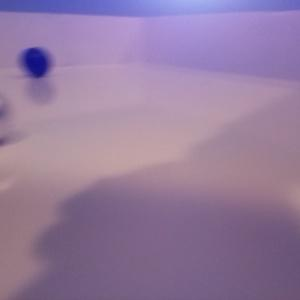alive_ball: (1, 92, 12, 145)
dead_ball: (20, 46, 49, 77)
